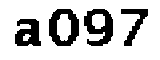0: (47, 5, 81, 49)
7: (118, 5, 152, 48)
9: (81, 6, 114, 50)
a: (9, 17, 44, 52)
